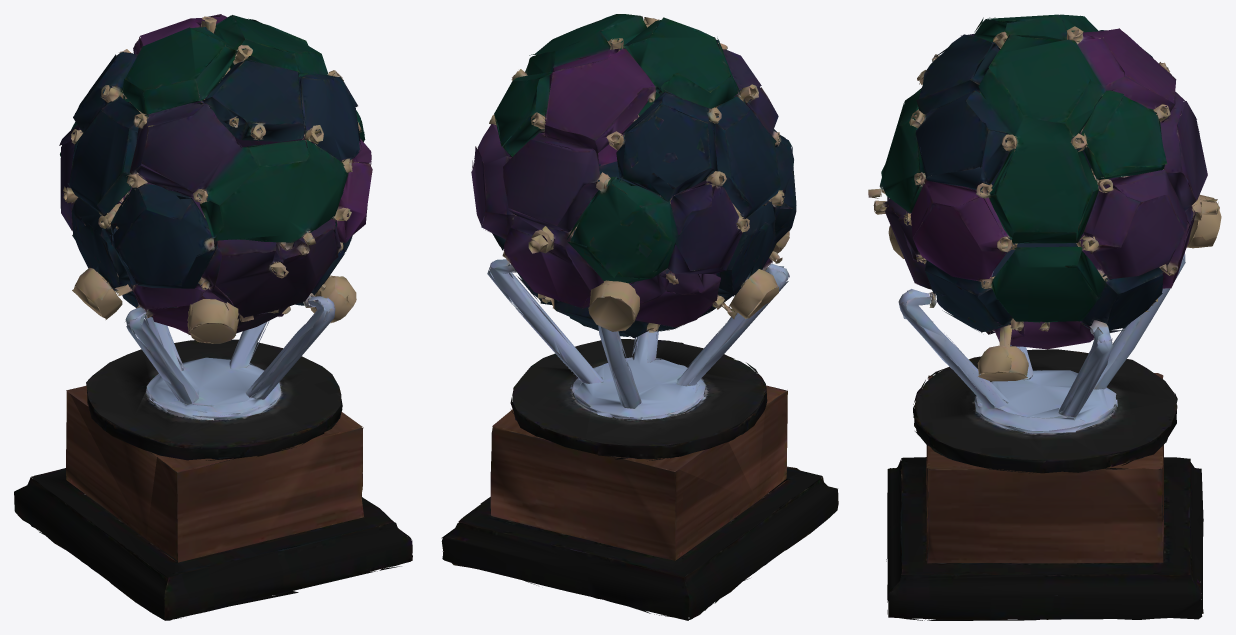
File: trophy-eva01-v3-lod.glb
3 renders of one model, left to right at view 1: azimuth 30°, elevation 25°; view 2: azimuth 150°, elevation 25°; view 3: azimuth 270°, elevation 25°, orthographic. The views are drawn at different scales.
Visible parts, largest first — view 1: world; view 2: world; view 3: world.
Boxes of the visible parts, left/top/right/bottom form: world: left=14, top=14, right=412, bottom=620; world: left=441, top=14, right=838, bottom=620; world: left=868, top=14, right=1221, bottom=620.
Size of the model in its own units: 0.5573 by 1 by 0.5999.
1 material, 1 textured.
